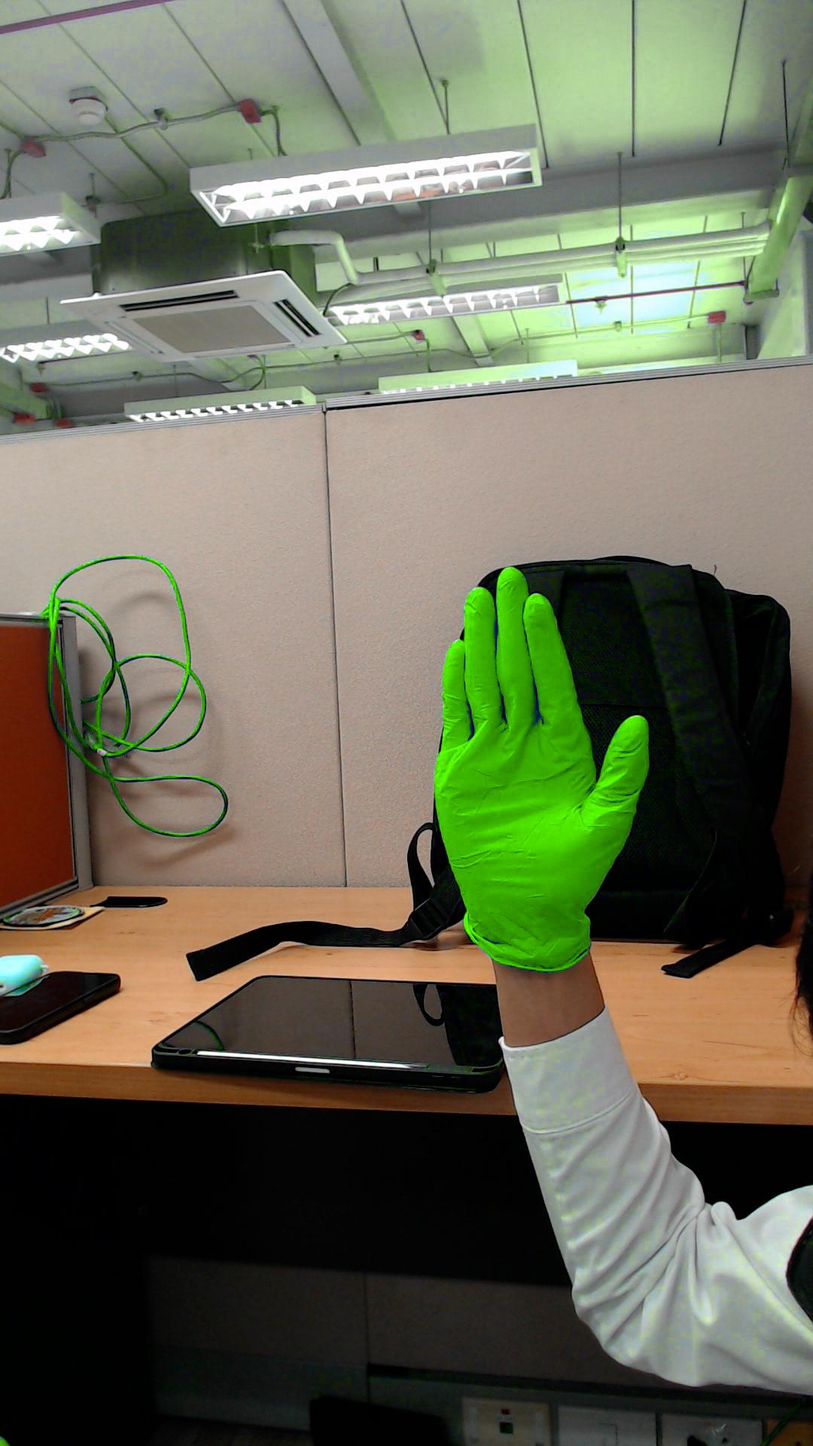gloves: (427, 554, 663, 904)
